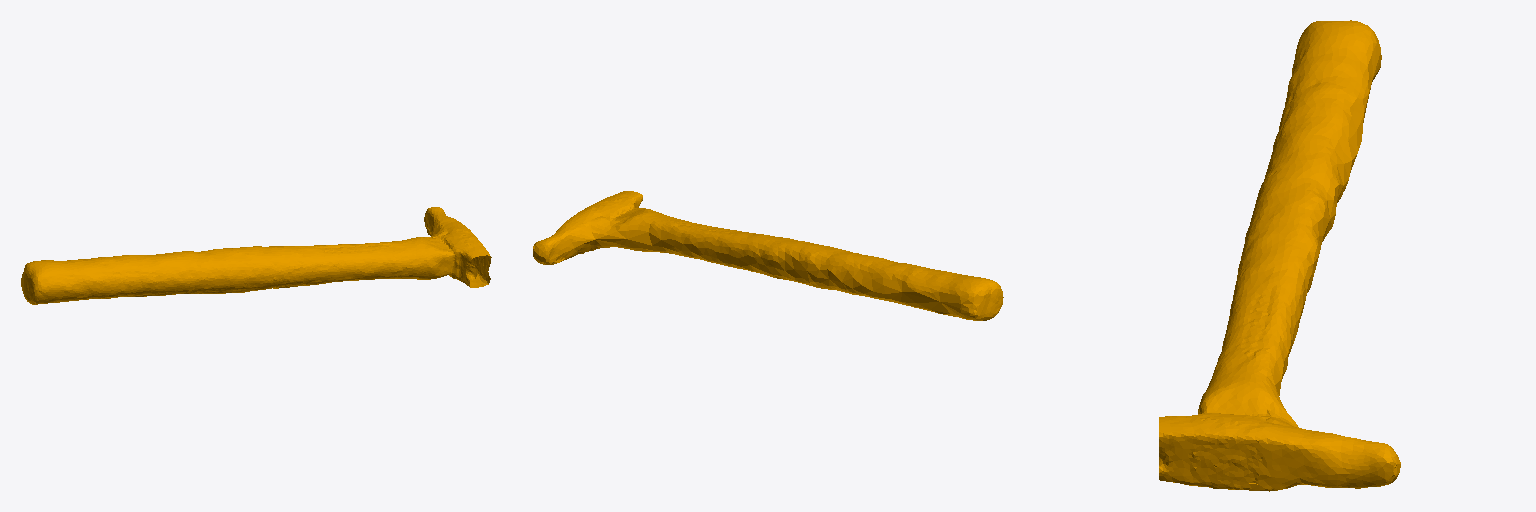
robot.urdf — model.urdf:
<?xml version="1.0" ?>
        <robot name="model.urdf">
        <link name="baseLink">
            <contact>
                <lateral_friction value="0.8"/>
                <rolling_friction value="0.001"/>g
                <contact_cfm value="0.0"/>
                <contact_erp value="1.0"/>
            </contact>
            <inertial>
                <origin xyz="0.07 0.0 0.0" rpy="0 0 0"/>
                <mass value="0.253"/>
                <inertia ixx="0.001" ixy="0" ixz="0" iyy="0.001" iyz="0" izz="0.001"/>
            </inertial>
            <visual>
            <geometry>
                <mesh filename="hammer_2.obj" scale="1 1 1"/>
            </geometry>
            <!-- The following material makes the object white in Isaac Gym, so we comment it out.
            <material name="white"> <color rgba="1. 1. 1. 1."/> </material>
            -->
            </visual>
            <collision>
            <geometry>
                <mesh filename="hammer_2.obj" scale="1 1 1"/>
            </geometry>
            </collision>
        </link>
        </robot>

--- Facts derived from the render (not from the file) ---
Views: 3 orthographic renders of the robot side by side, from view 1: azimuth 30°, elevation 25°; view 2: azimuth 150°, elevation 25°; view 3: azimuth 270°, elevation 25°.
Robot: model.urdf — 1 links, 0 joints (none); root link baseLink; default pose: every joint at zero.
Links seen in each view (by area): view 1: baseLink; view 2: baseLink; view 3: baseLink.
Boxes of the visible links, x1=… form: baseLink: x1=21, y1=207, x2=491, y2=304; baseLink: x1=533, y1=191, x2=1003, y2=320; baseLink: x1=1159, y1=20, x2=1400, y2=491.
Bounding box of the posed robot: 0.2742 × 0.0787 × 0.0487 m (x, y, z).
1 mesh visuals loaded from 1 distinct referenced files (1 OBJ).
